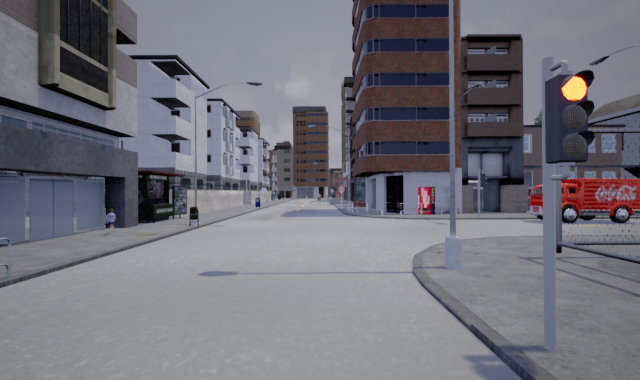pedestrian: (100, 206, 121, 234)
traffic_light: (543, 69, 596, 165)
traffic_sign: (338, 185, 347, 195)
vehicle: (521, 177, 639, 224)
